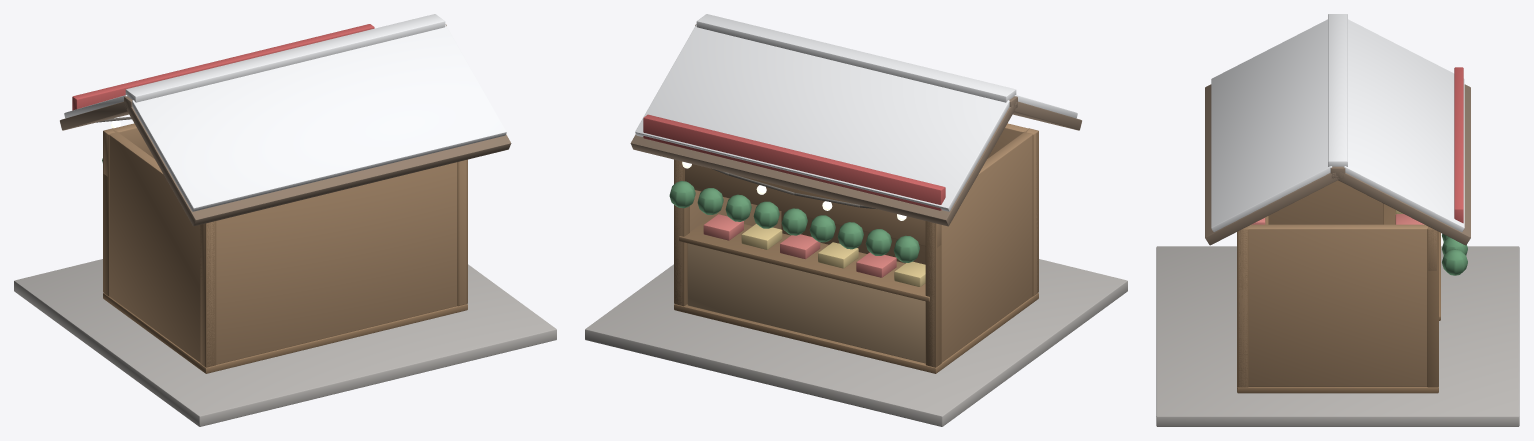
File: th29_weihnachtsbude.glb
The picture shows the model from 3 angles, left to right: view 1: azimuth 30°, elevation 25°; view 2: azimuth 150°, elevation 25°; view 3: azimuth 270°, elevation 25°; orthographic projection. The views are drawn at different scales.
Parts seen in each view (by area): view 1: Cube.043, Cube.006, Cube, Cube.007, Cube.042, Cube.047, Cube.001, Cube.048, Cube.002, Cube.008, Cube.003, Cube.044 (+2 smaller); view 2: Cube.045, Cube, Cube.007, Cube.010, Cube.048, Cube.044, Cube.047, Cube.009, Cube.011, Cube.001, Cube.003, Cube.006 (+19 smaller); view 3: Cube, Cube.008, Cube.043, Cube.045, Cube.007, Cube.047, Cube.042, Cube.044, Cube.005, Cube.048, Cube.006, Cube.001 (+4 smaller).
Boxes of the visible parts, x1=… form: Cube.043: x1=132, y1=24, x2=506, y2=211; Cube.006: x1=200, y1=162, x2=457, y2=366; Cube: x1=14, y1=259, x2=556, y2=426; Cube.007: x1=109, y1=128, x2=214, y2=366; Cube.042: x1=126, y1=104, x2=511, y2=226; Cube.047: x1=125, y1=14, x2=445, y2=102; Cube.001: x1=103, y1=293, x2=467, y2=373; Cube.048: x1=72, y1=24, x2=374, y2=110; Cube.002: x1=200, y1=221, x2=216, y2=367; Cube.008: x1=459, y1=160, x2=466, y2=305; Cube.003: x1=103, y1=128, x2=118, y2=296; Cube.044: x1=60, y1=101, x2=129, y2=130; Cube.045: x1=635, y1=24, x2=1009, y2=211; Cube: x1=585, y1=259, x2=1127, y2=426; Cube.007: x1=927, y1=128, x2=1032, y2=366; Cube.010: x1=687, y1=243, x2=925, y2=363; Cube.048: x1=643, y1=114, x2=945, y2=210; Cube.044: x1=630, y1=104, x2=1015, y2=226; Cube.047: x1=696, y1=14, x2=1016, y2=102; Cube.009: x1=684, y1=164, x2=941, y2=247; Cube.011: x1=679, y1=216, x2=929, y2=301; Cube.001: x1=674, y1=293, x2=1038, y2=373; Cube.003: x1=925, y1=221, x2=941, y2=367; Cube.006: x1=781, y1=123, x2=1038, y2=295; Cube: x1=1156, y1=246, x2=1519, y2=426; Cube.008: x1=1247, y1=224, x2=1429, y2=386; Cube.043: x1=1211, y1=19, x2=1331, y2=231; Cube.045: x1=1344, y1=19, x2=1464, y2=231; Cube.007: x1=1268, y1=180, x2=1382, y2=224; Cube.047: x1=1328, y1=14, x2=1347, y2=166; Cube.042: x1=1205, y1=84, x2=1339, y2=245; Cube.044: x1=1337, y1=84, x2=1470, y2=245; Cube.005: x1=1427, y1=226, x2=1438, y2=387; Cube.048: x1=1454, y1=67, x2=1463, y2=223; Cube.006: x1=1239, y1=229, x2=1247, y2=387; Cube.001: x1=1237, y1=386, x2=1438, y2=393.
Bounding box in the file's own units: 6 × 4.18 × 5.4.
